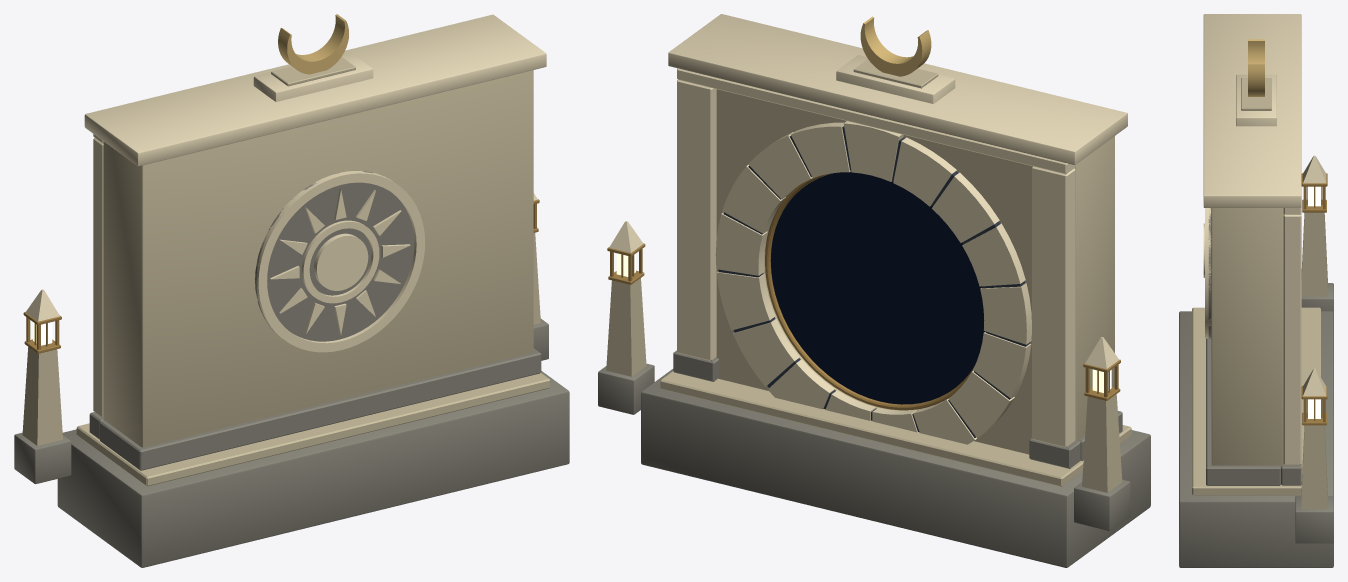
File: shadow-gate-exterior-v01.glb
The picture shows the model from 3 angles, left to right: view 1: azimuth 30°, elevation 25°; view 2: azimuth 150°, elevation 25°; view 3: azimuth 270°, elevation 25°; orthographic projection. The views are drawn at different scales.
Parts seen in each view (by area): view 1: Shadow sandstone 1, Shadow sandstone shade 0, Shadow sandstone light 2, Shadow gold 7, Shadow brass 3; view 2: Shadow sandstone light 2, Shadow sandstone shade 0, Shadow sandstone 1, Shadow portal night 6, Shadow brass 3, Shadow gold 7, Shadow grout 5; view 3: Shadow sandstone 1, Shadow sandstone light 2, Shadow sandstone shade 0, Shadow brass 3, Shadow gold 7, Shadow lamp glow 4.
Boxes of the visible parts, x1,y1,x2,y2 form: Shadow sandstone 1: [22, 57, 550, 486]; Shadow sandstone shade 0: [14, 171, 569, 567]; Shadow sandstone light 2: [25, 14, 546, 417]; Shadow gold 7: [278, 14, 348, 74]; Shadow brass 3: [23, 199, 539, 353]; Shadow sandstone light 2: [609, 14, 1127, 447]; Shadow sandstone shade 0: [598, 350, 1150, 567]; Shadow sandstone 1: [606, 59, 1131, 492]; Shadow portal night 6: [770, 171, 985, 404]; Shadow brass 3: [607, 173, 1120, 410]; Shadow gold 7: [860, 16, 931, 76]; Shadow grout 5: [718, 126, 1030, 437]; Shadow sandstone 1: [1192, 78, 1327, 509]; Shadow sandstone light 2: [1203, 14, 1326, 465]; Shadow sandstone shade 0: [1179, 208, 1333, 567]; Shadow brass 3: [1301, 173, 1327, 425]; Shadow gold 7: [1248, 39, 1264, 96]; Shadow lamp glow 4: [1308, 186, 1320, 418].
Size of the model in its own units: 8.4 by 7.2 by 2.4.
